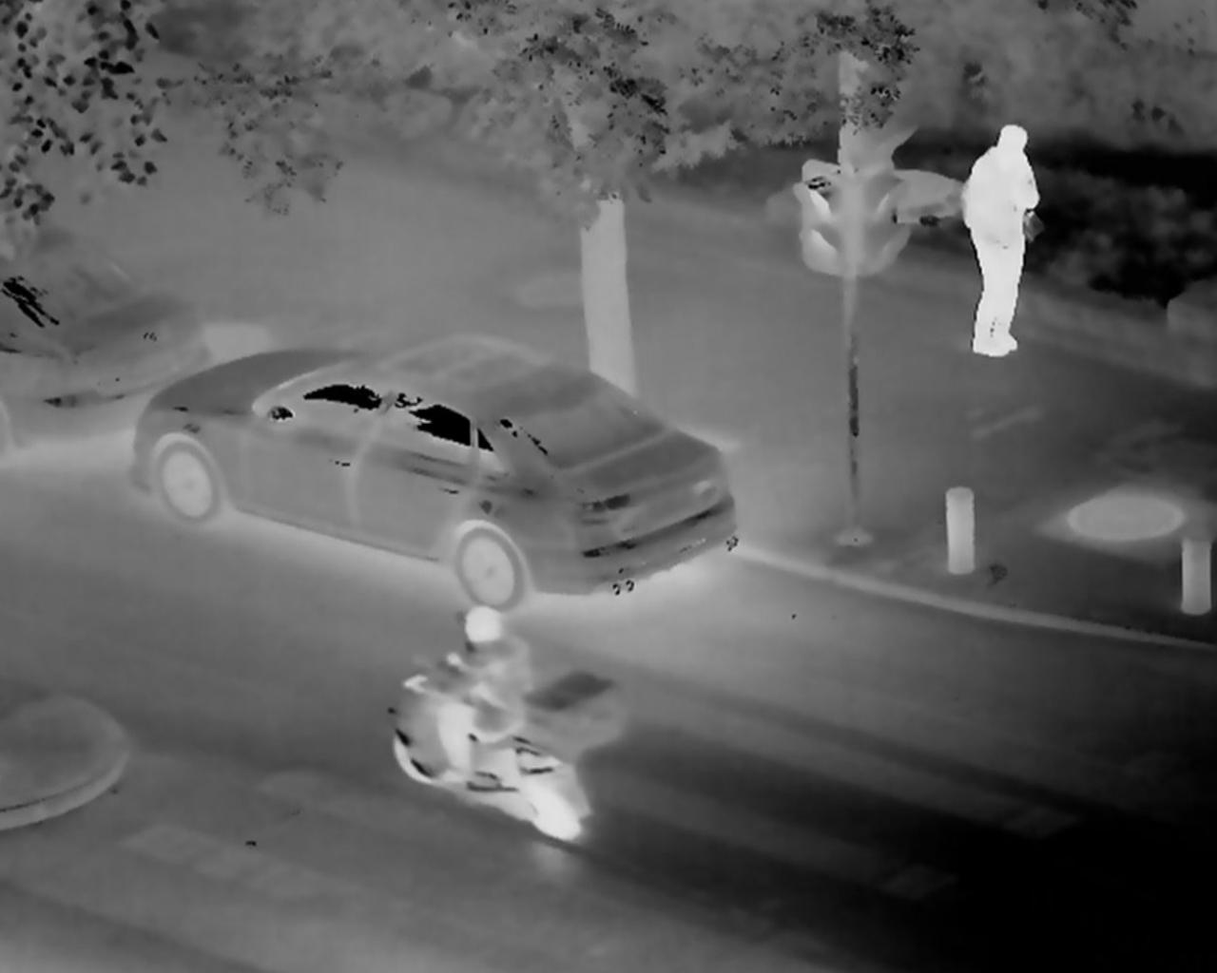person: (406, 600, 536, 809), (945, 114, 1043, 358)
